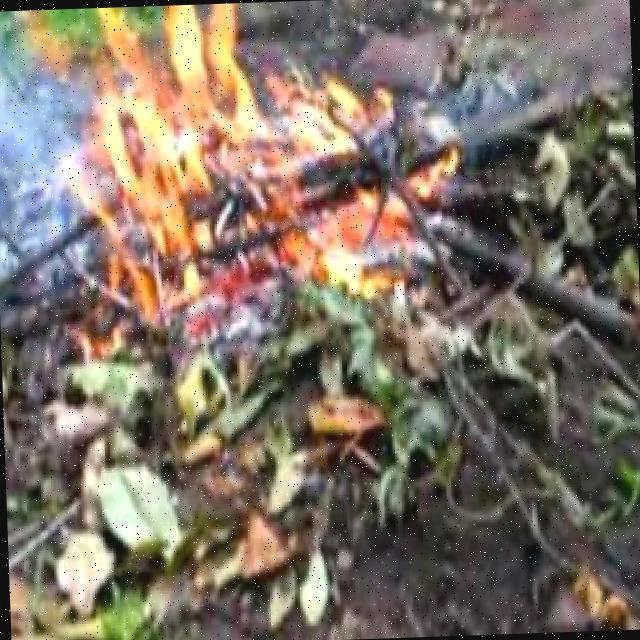Fire: (67, 7, 369, 315)
